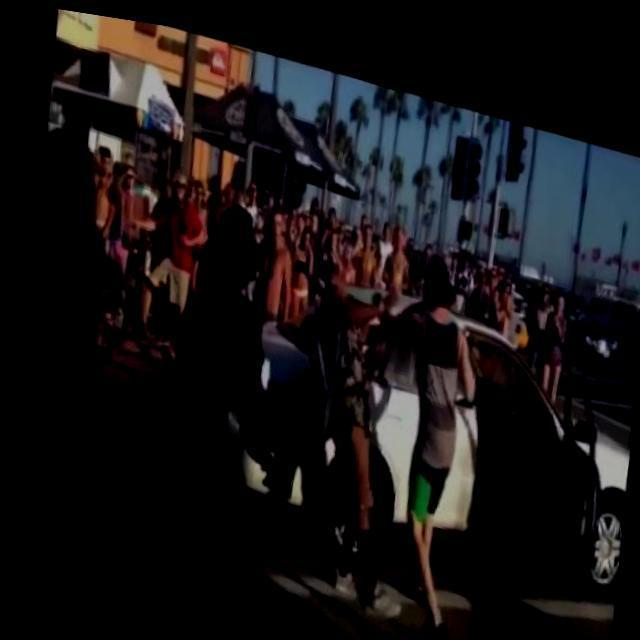fight: (248, 197, 512, 640)
